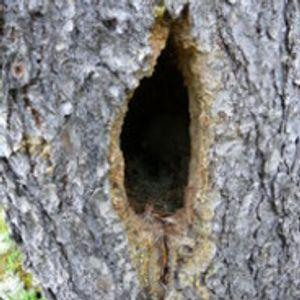hollow: (121, 40, 189, 213)
